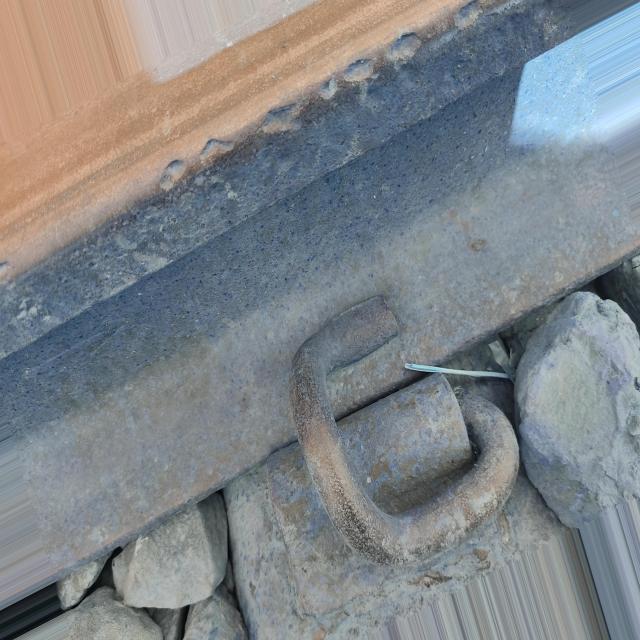Good Fasteners: (251, 288, 536, 631)
